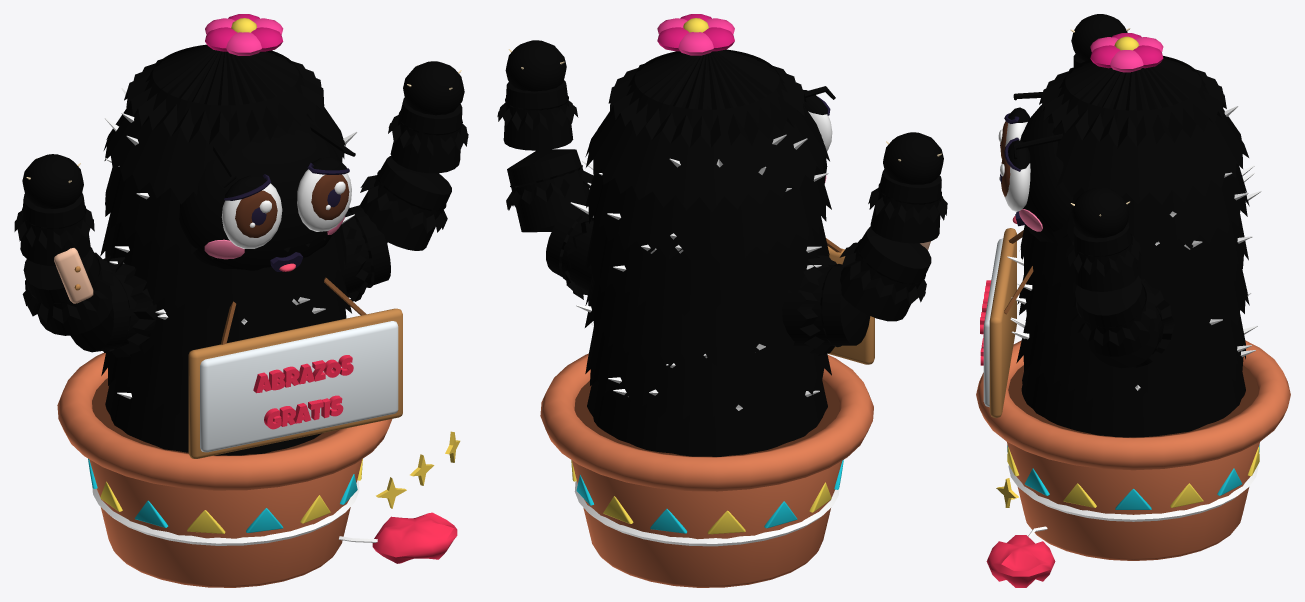
Rendered from cactus_abrazos.obj.
3 renders of one model, left to right at view 1: azimuth 30°, elevation 25°; view 2: azimuth 150°, elevation 25°; view 3: azimuth 270°, elevation 25°, orthographic. The views are drawn at different scales.
Visible parts, largest first — view 1: cactus_abrazos, cactus_abrazos_Neon; view 2: cactus_abrazos; view 3: cactus_abrazos.
Boxes of the visible parts, x1,y1,x2,y2 form: cactus_abrazos: [14, 14, 468, 587]; cactus_abrazos_Neon: [376, 431, 460, 508]; cactus_abrazos: [497, 14, 947, 587]; cactus_abrazos: [976, 14, 1290, 587].
Bounding box in the file's own units: 3.62 × 4.06 × 2.38.
2 materials, 2 textured.
